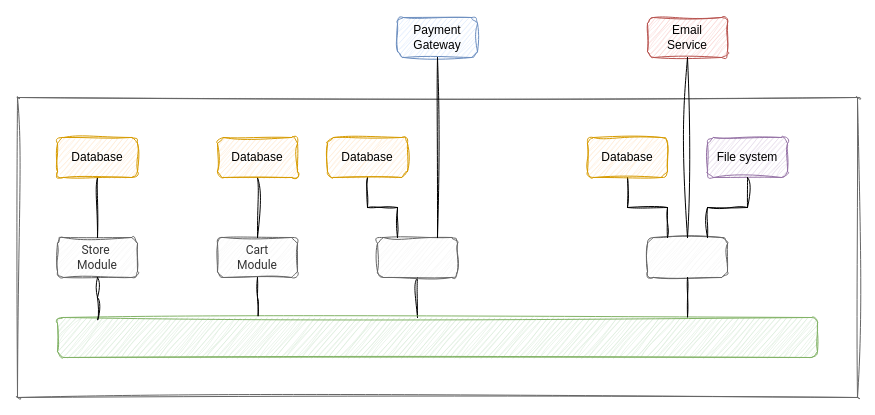
Image size: 875x415. Some labels were removed from this diagram. The shapes that lost their labels are listed below. From the top down, each one's centre as x and y in pixels, then its label:
At (x=417, y=257): "Order Module".
At (x=687, y=257): "Report Module".
At (x=437, y=337): "Service Bus".
